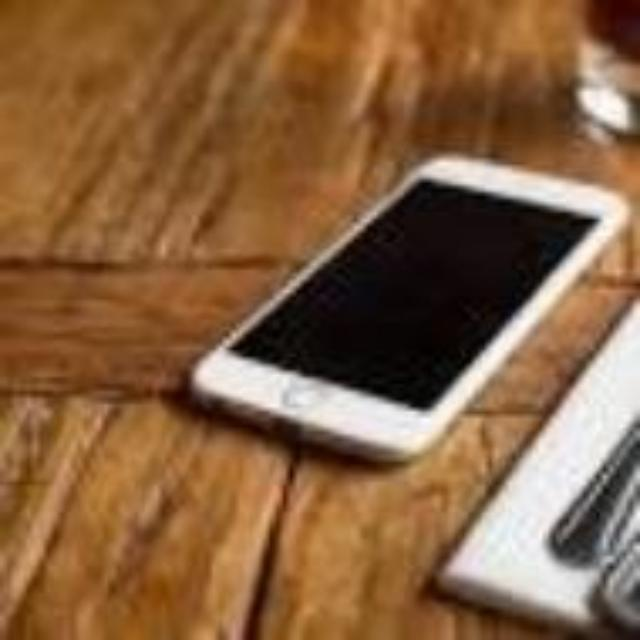Phone: (187, 152, 628, 468)
